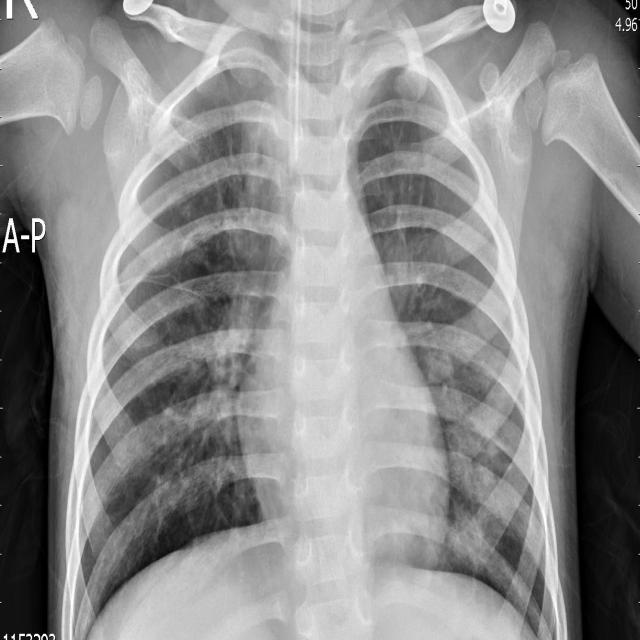high-pneumonia: (189, 69, 292, 446)
low-pneumonia: (424, 309, 520, 569)
